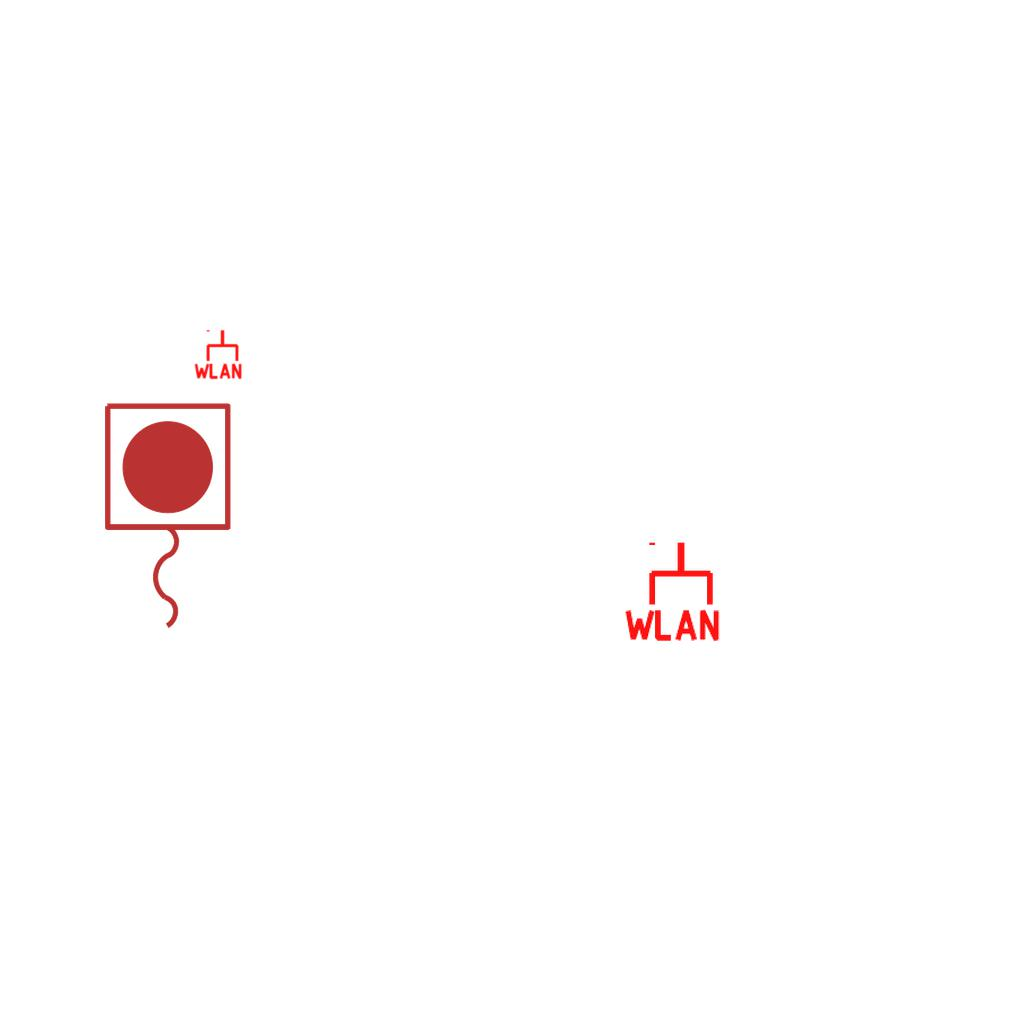WLAN: (620, 538, 724, 643), (192, 328, 244, 380)
Zugtaster: (94, 395, 238, 639)
